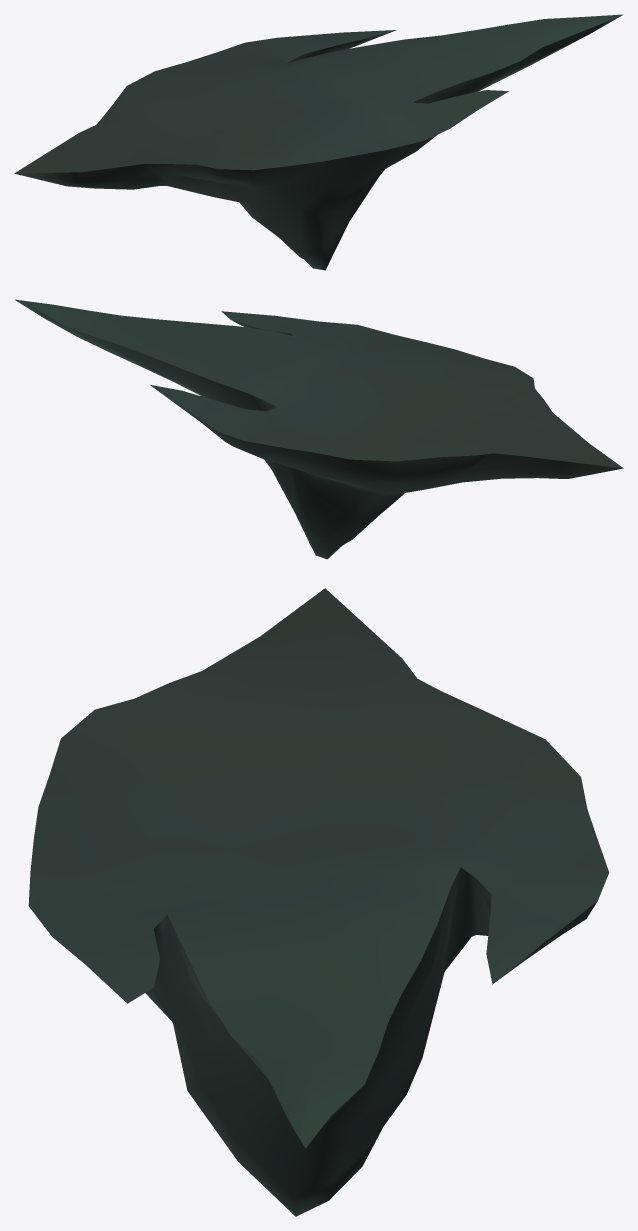
The model's file is SM_Rock_06.fbx.
3 views of the same model, one above another, from view 1: azimuth 30°, elevation 25°; view 2: azimuth 150°, elevation 25°; view 3: azimuth 270°, elevation 25° (orthographic). The views are drawn at different scales.
Visible parts, largest first — view 1: SM_Rock_06; view 2: SM_Rock_06; view 3: SM_Rock_06.
Boxes of the visible parts, x1,y1,x2,y2 form: SM_Rock_06: [14, 14, 623, 270]; SM_Rock_06: [15, 299, 623, 559]; SM_Rock_06: [28, 588, 609, 1216].
Bounding box in the file's own units: 2042 × 594 × 848.
Materials: 1 (1 with a texture image).
